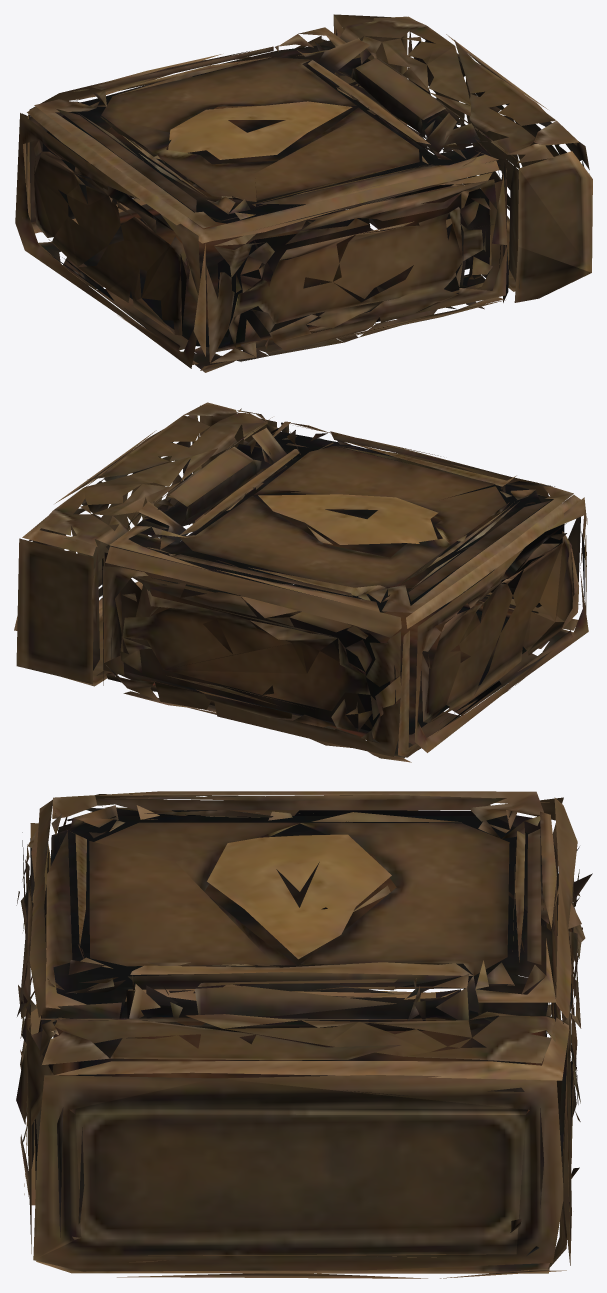
Rendered from pro_match_case.glb.
3 renders of one model, top to bottom at view 1: azimuth 30°, elevation 25°; view 2: azimuth 150°, elevation 25°; view 3: azimuth 270°, elevation 25°, orthographic. The views are drawn at different scales.
Visible parts, largest first — view 1: MetricPlacement; view 2: MetricPlacement; view 3: MetricPlacement.
Boxes of the visible parts, box(x1,y1,x2,y2) form: MetricPlacement: box(15, 14, 592, 372); MetricPlacement: box(14, 402, 588, 762); MetricPlacement: box(16, 791, 592, 1278).
Bounding box in the file's own units: 0.1 × 0.0411 × 0.0843.
1 material, 1 textured.
